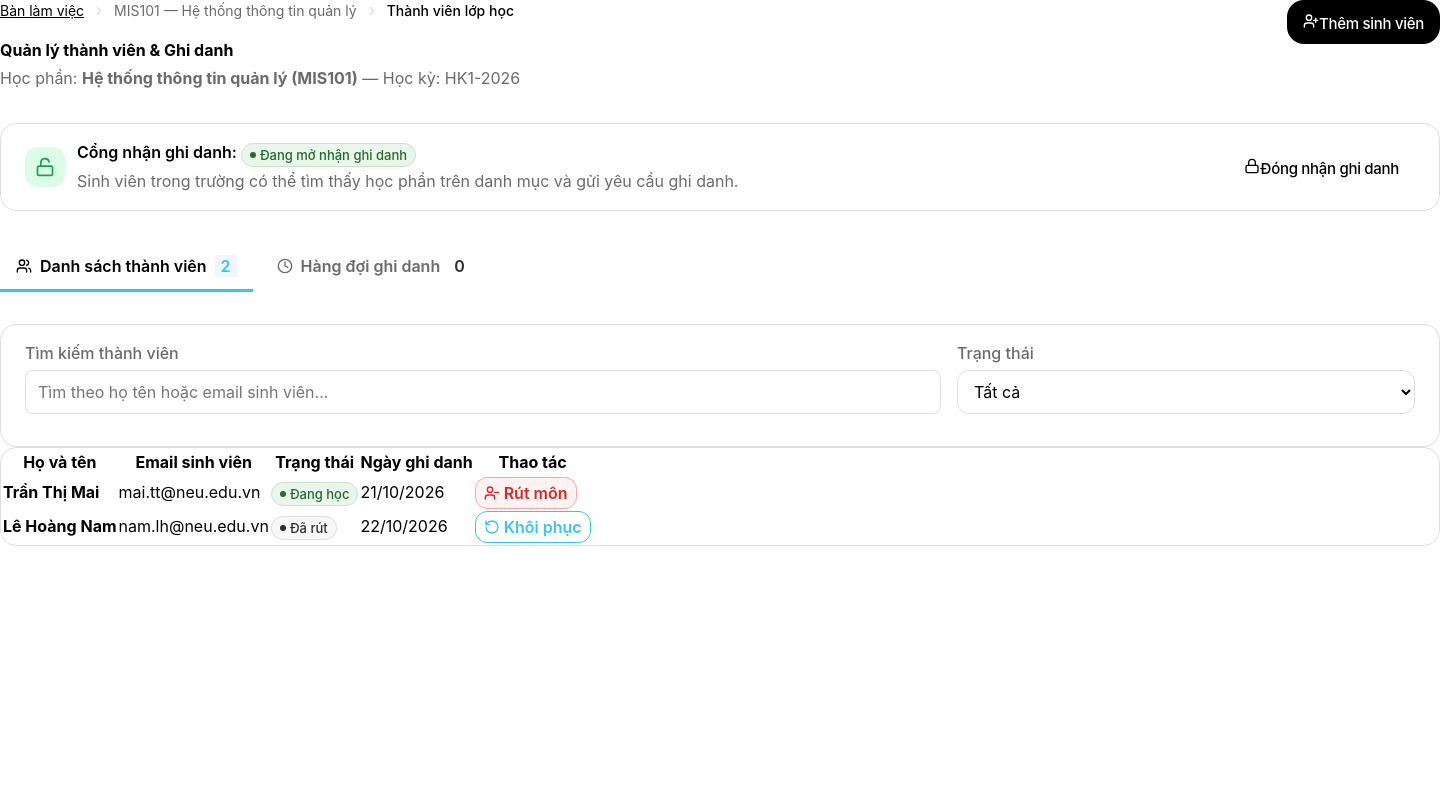
it: B07-06 Teacher Course Members & Enrollment Requests UI › 3. Thêm sinh viên thành công gọi coursesService.addCourseMember và refresh
Click the button "Thêm sinh viên" at (1364, 22), box [1287, 0, 1439, 44]
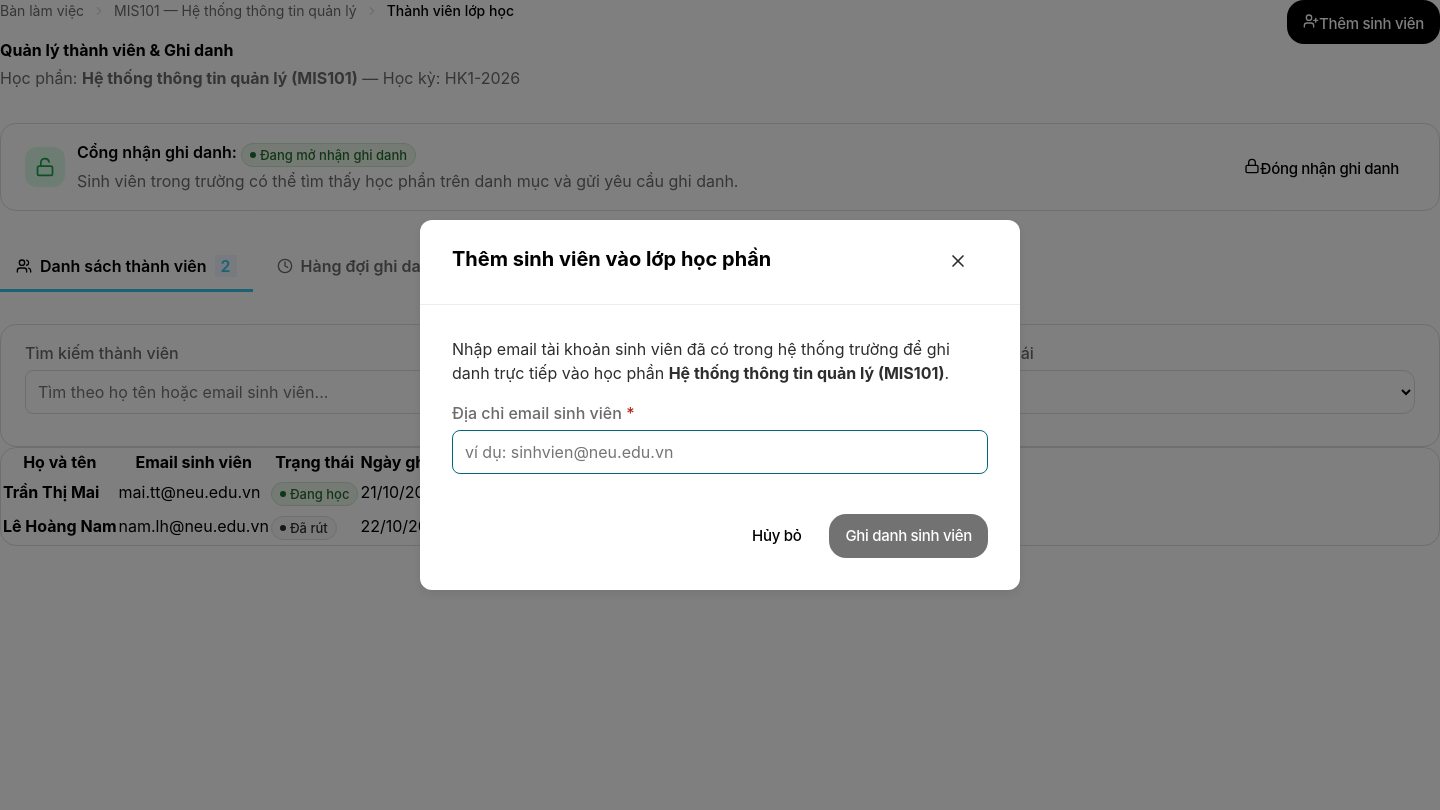
Expected: the heading "Thêm sinh viên vào lớp học phần" is shown, [452, 244, 771, 275]
Type "moi.nv@neu.edu.vn" into the field labelled "Địa chỉ email sinh viên *" at (720, 452), box [452, 430, 988, 474]
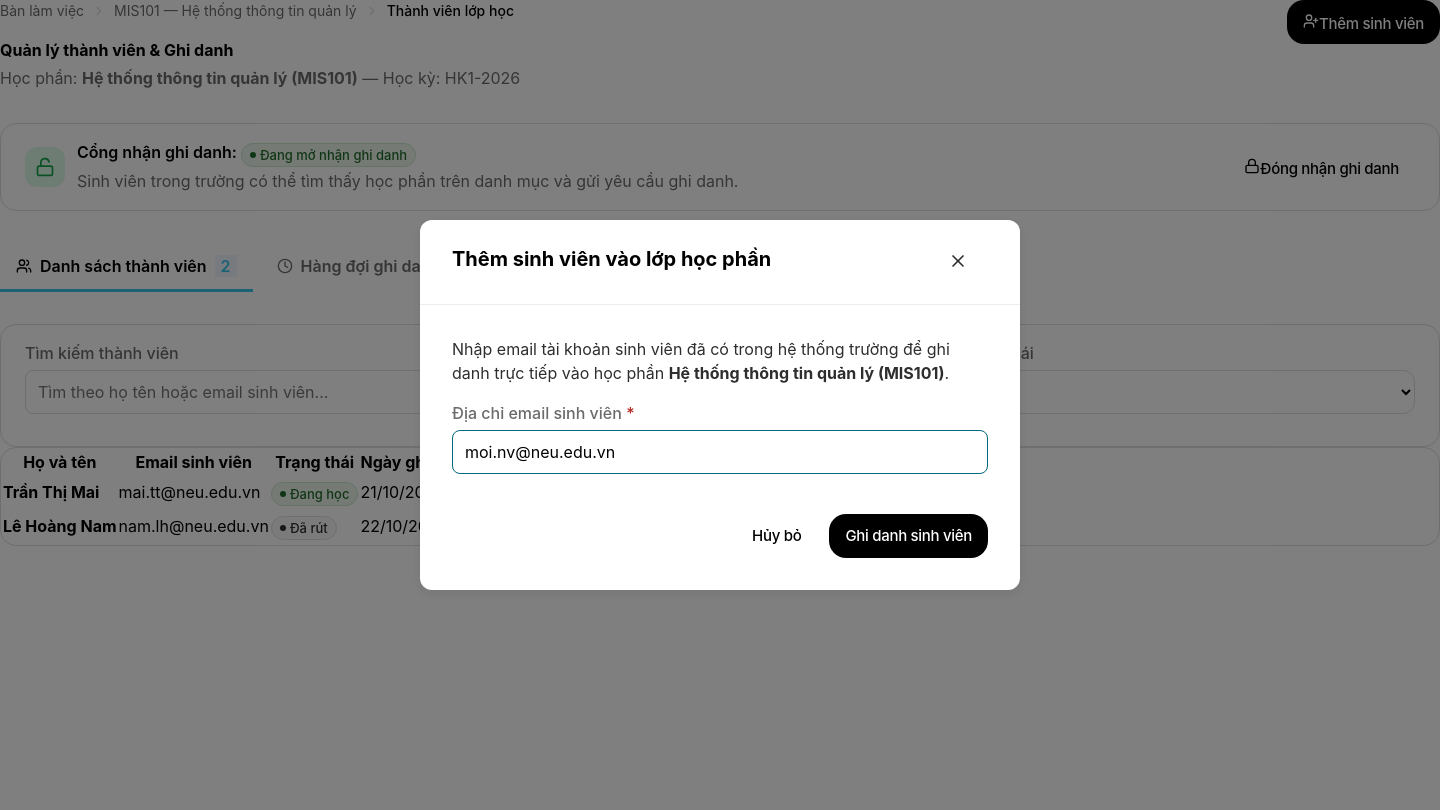
Click the button "Ghi danh sinh viên" at (909, 536), box [829, 514, 988, 558]
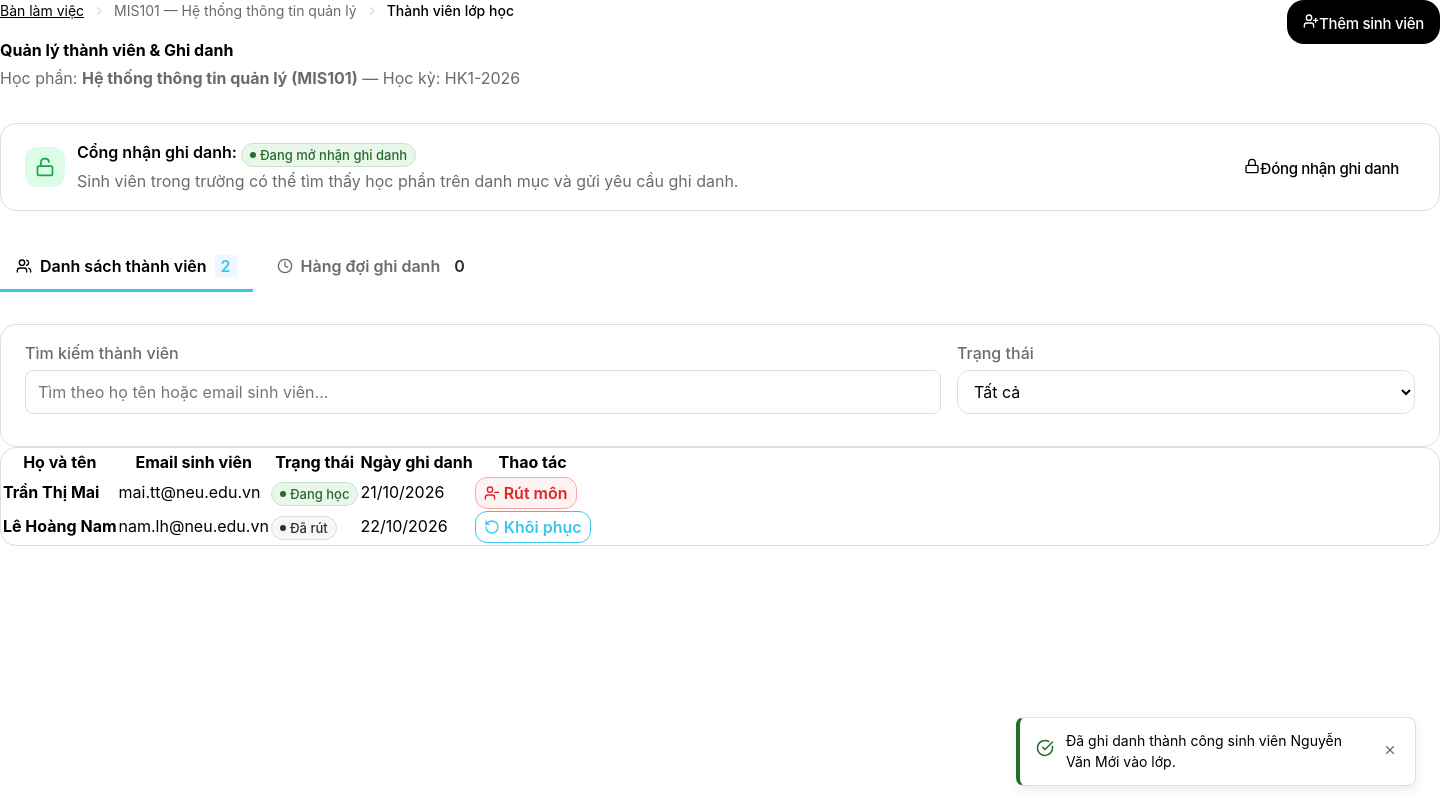
Expected: the heading "Thêm sinh viên vào lớp học phần" is gone
